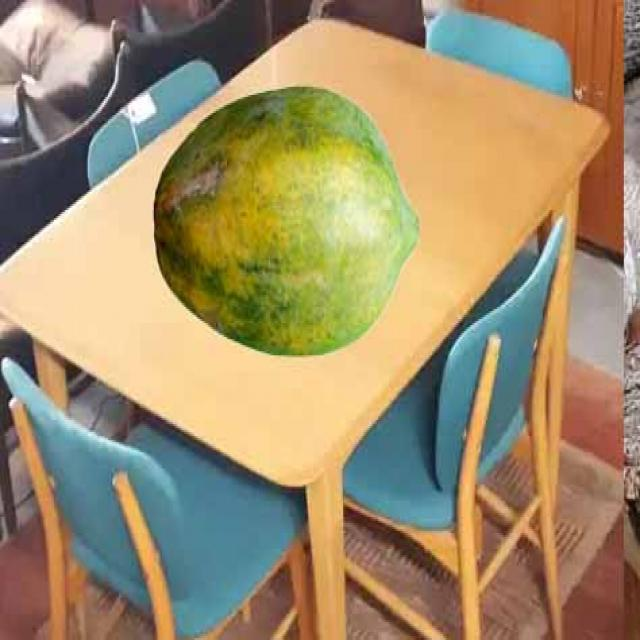Pepaya rippen: (154, 89, 421, 363)
